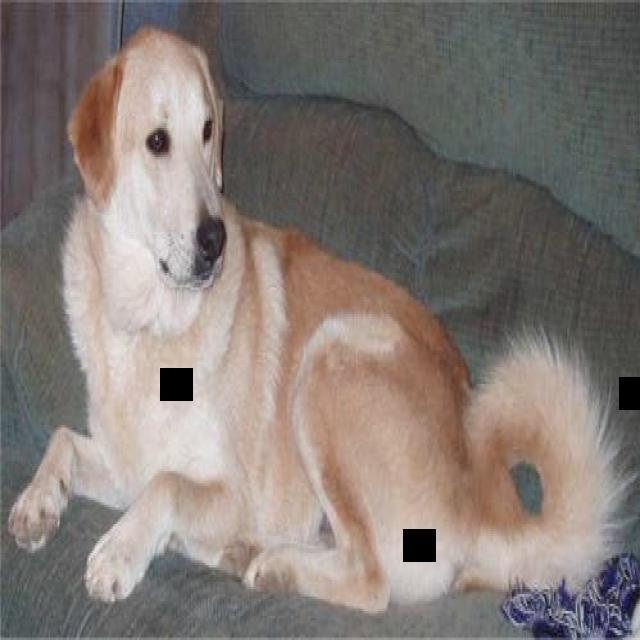adult_dog: (4, 19, 622, 618)
